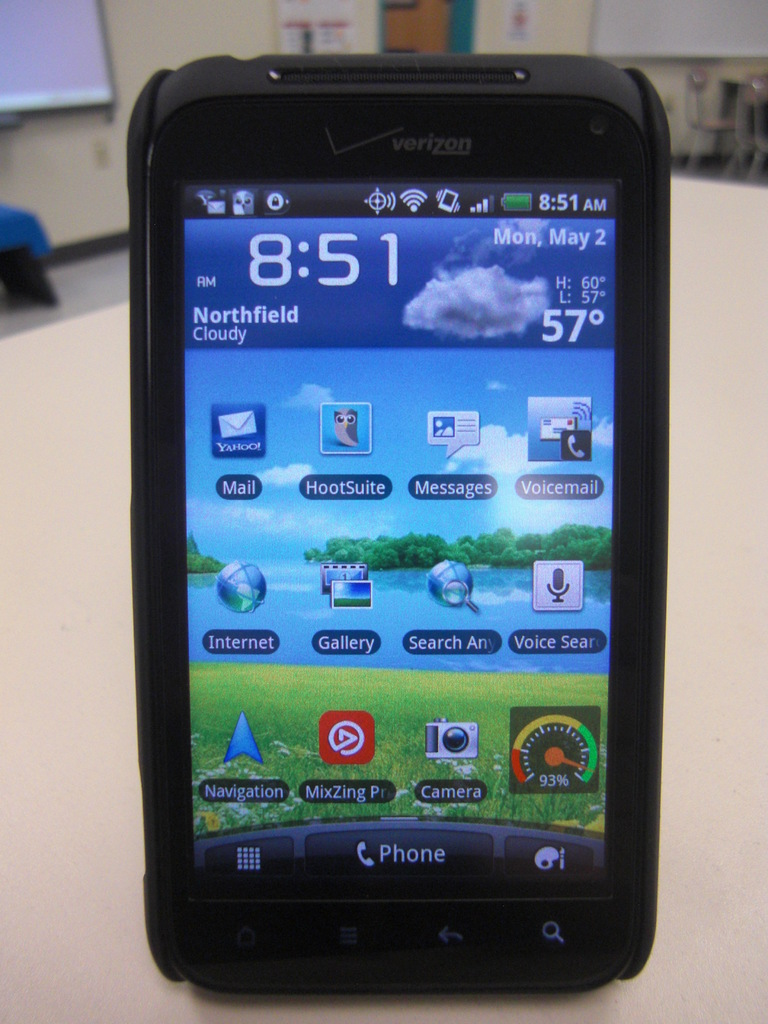Mobile-phone: (123, 53, 682, 1003)
